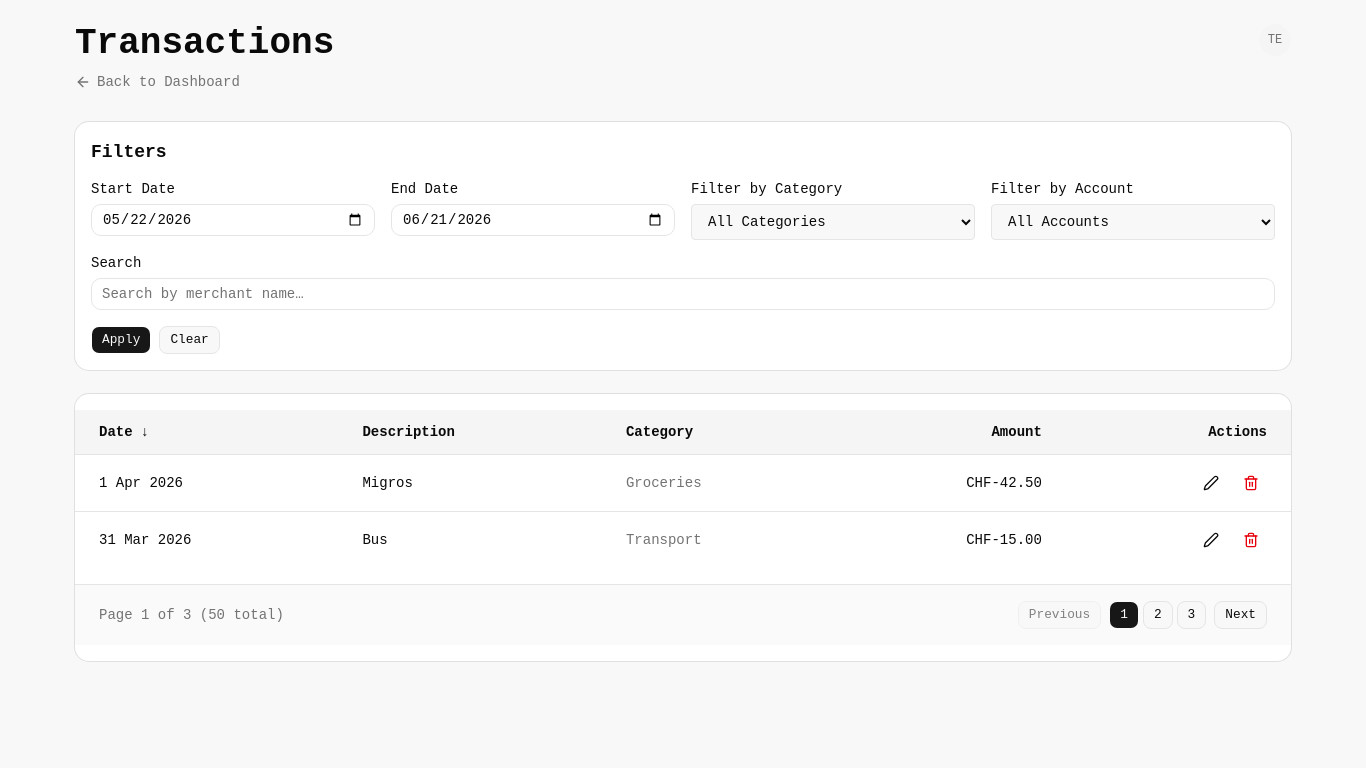
Test case: TransactionsPage › disables pagination buttons at boundaries
Check: the text "Migros" is shown, box [338,454,602,512]
Check: the button "Previous" is disabled, box [1018,601,1101,629]
Click the button "Next": (1241, 615) [1214,601,1267,629]
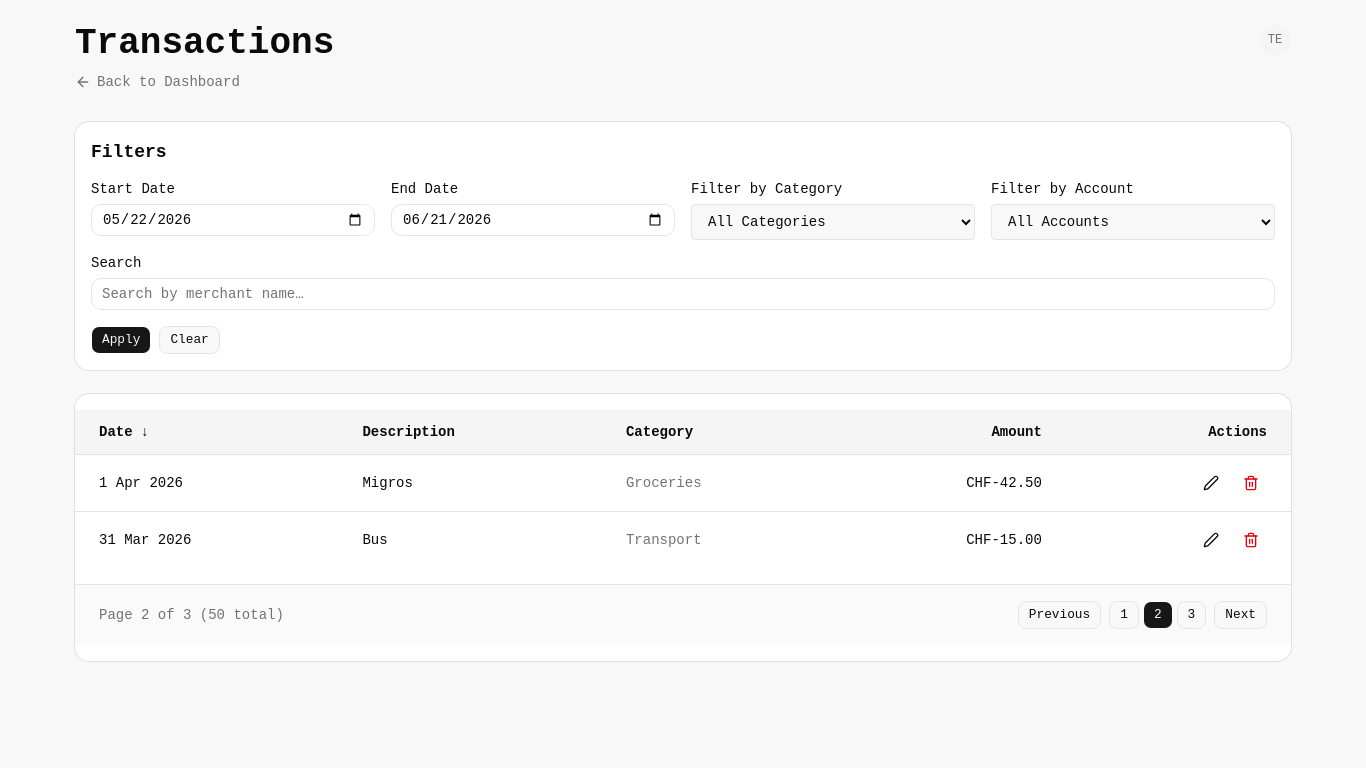
Check: the button "Previous" is enabled, box [1018,601,1101,629]
